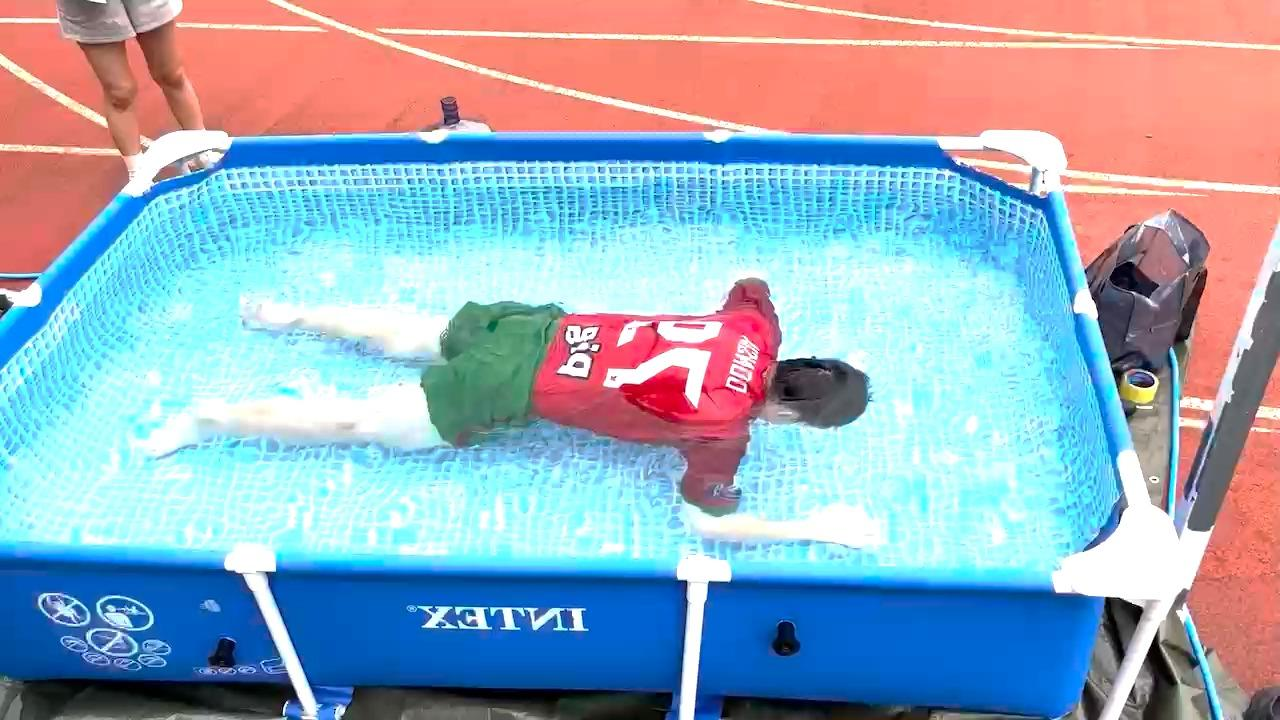Drowning: (116, 249, 925, 523)
